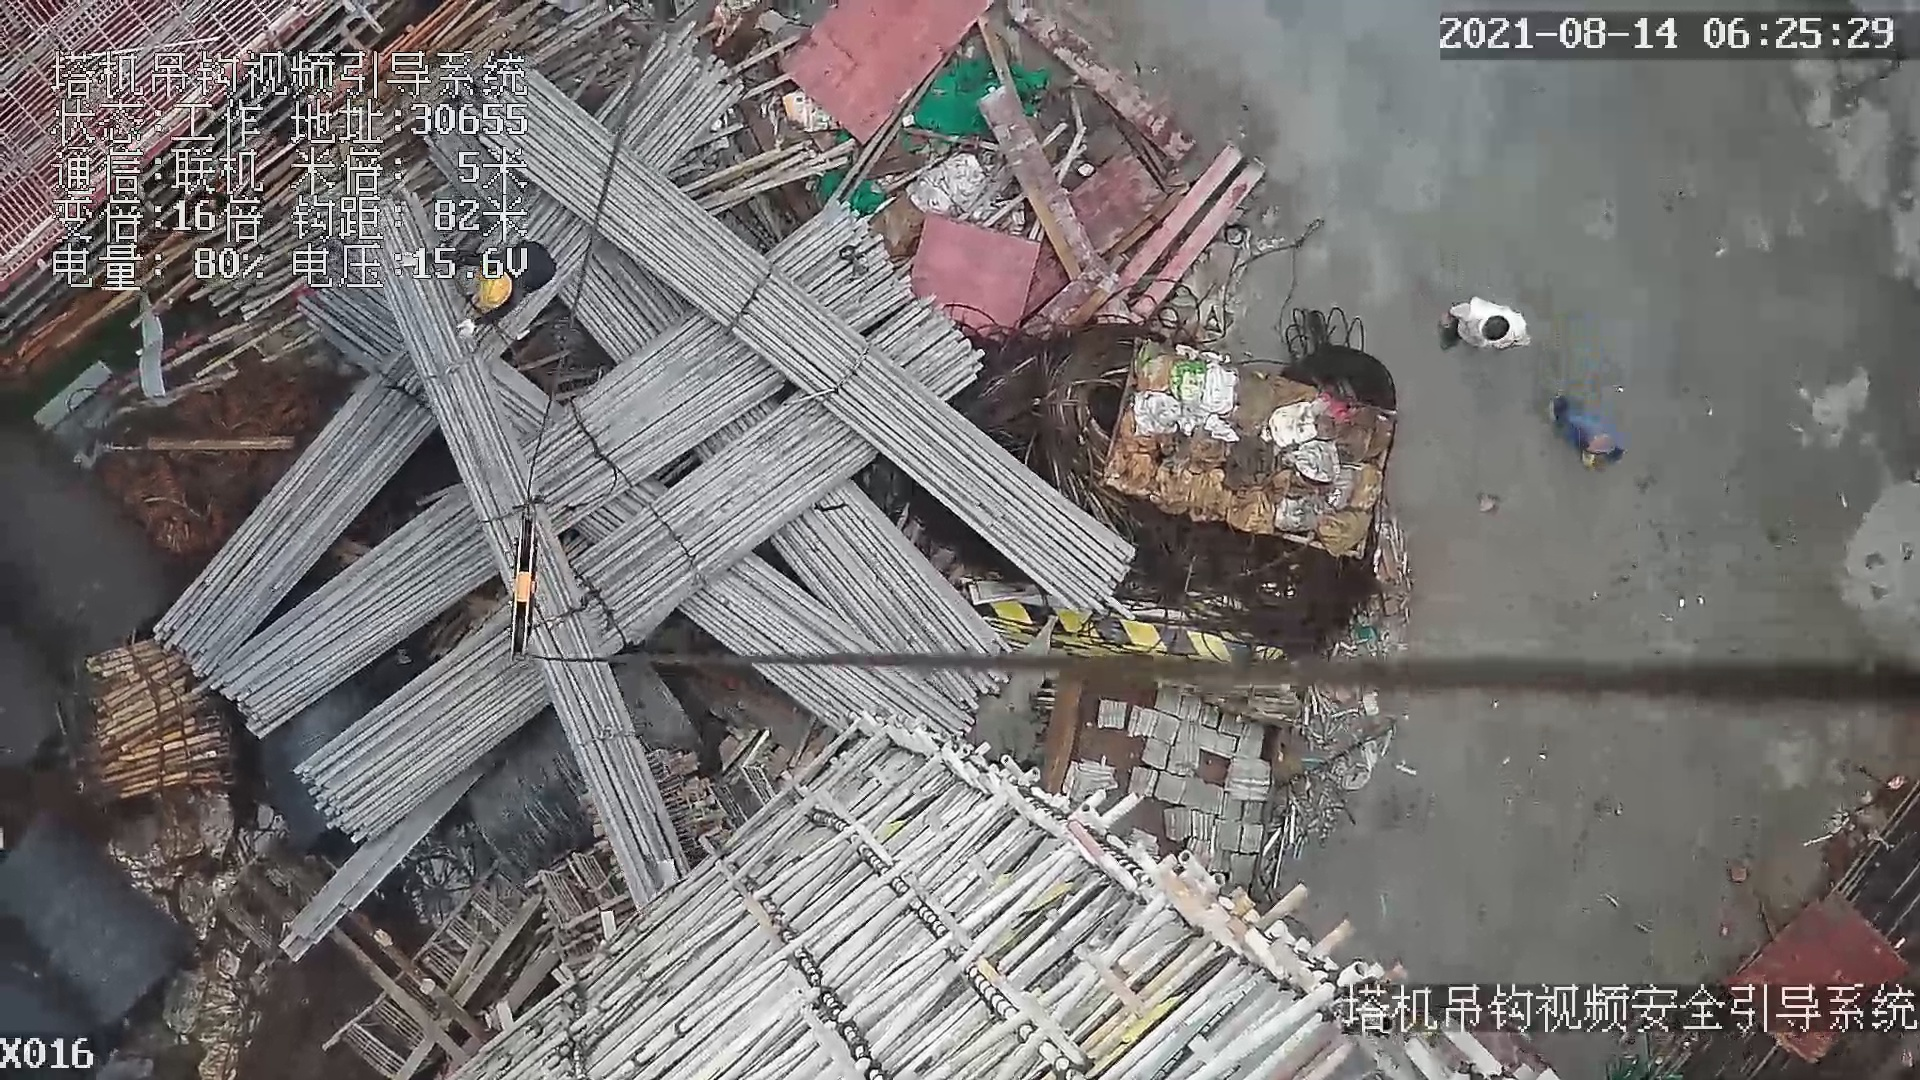helmet: (474, 269, 513, 312)
person: (383, 240, 553, 337), (1545, 391, 1628, 472), (1428, 297, 1538, 356)
